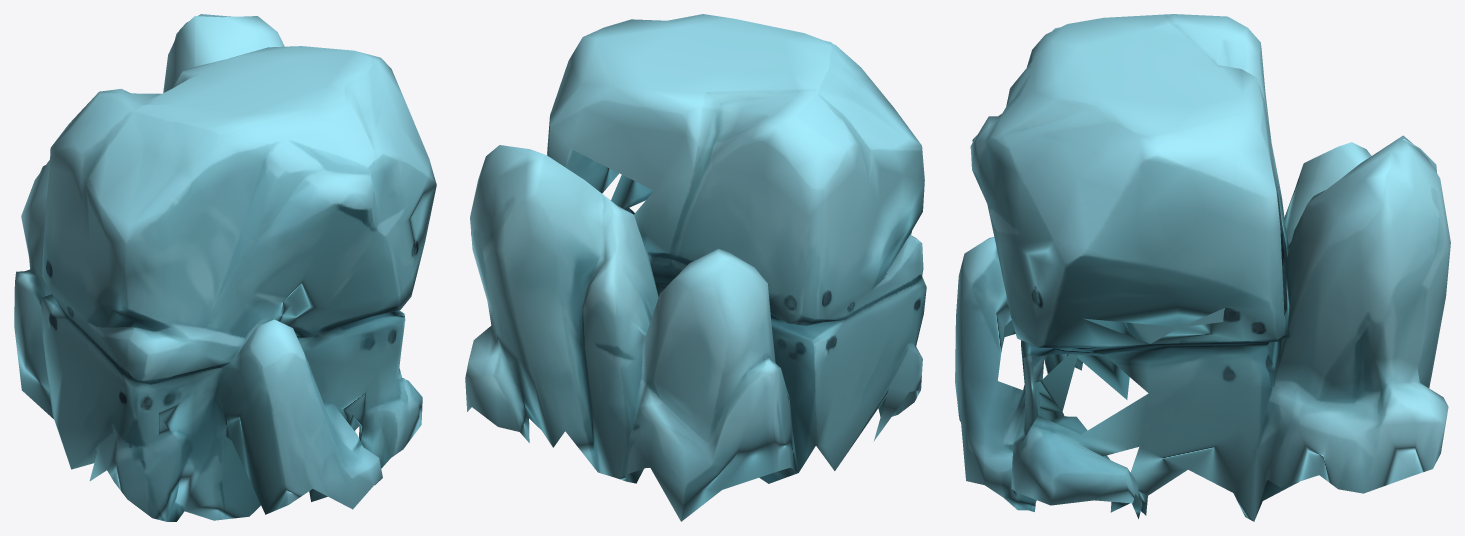
File: led-kristally-variant.glb
3 renders of one model, left to right at view 1: azimuth 30°, elevation 25°; view 2: azimuth 150°, elevation 25°; view 3: azimuth 270°, elevation 25°, orthographic. The views are drawn at different scales.
Parts seen in each view (by area): view 1: geometry_0; view 2: geometry_0; view 3: geometry_0.
Boxes of the visible parts, x1,y1,x2,y2 form: geometry_0: (14, 14, 436, 521); geometry_0: (465, 14, 926, 521); geometry_0: (955, 14, 1450, 521).
Bounding box in the file's own units: 0.8198 × 0.9311 × 0.9954.
Materials: 1 (1 with a texture image).
